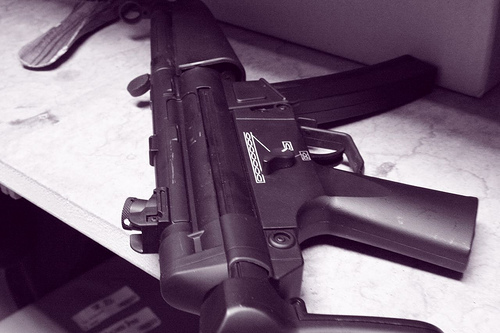rifle: (104, 7, 455, 331)
